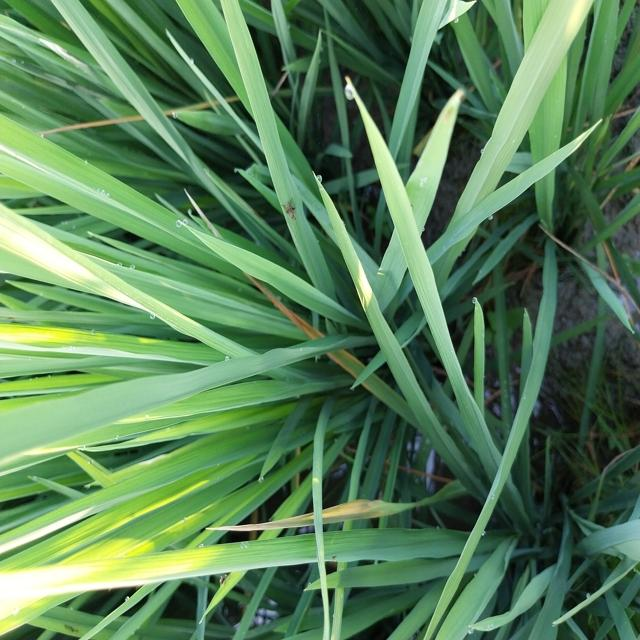healthy: (279, 195, 301, 230)
